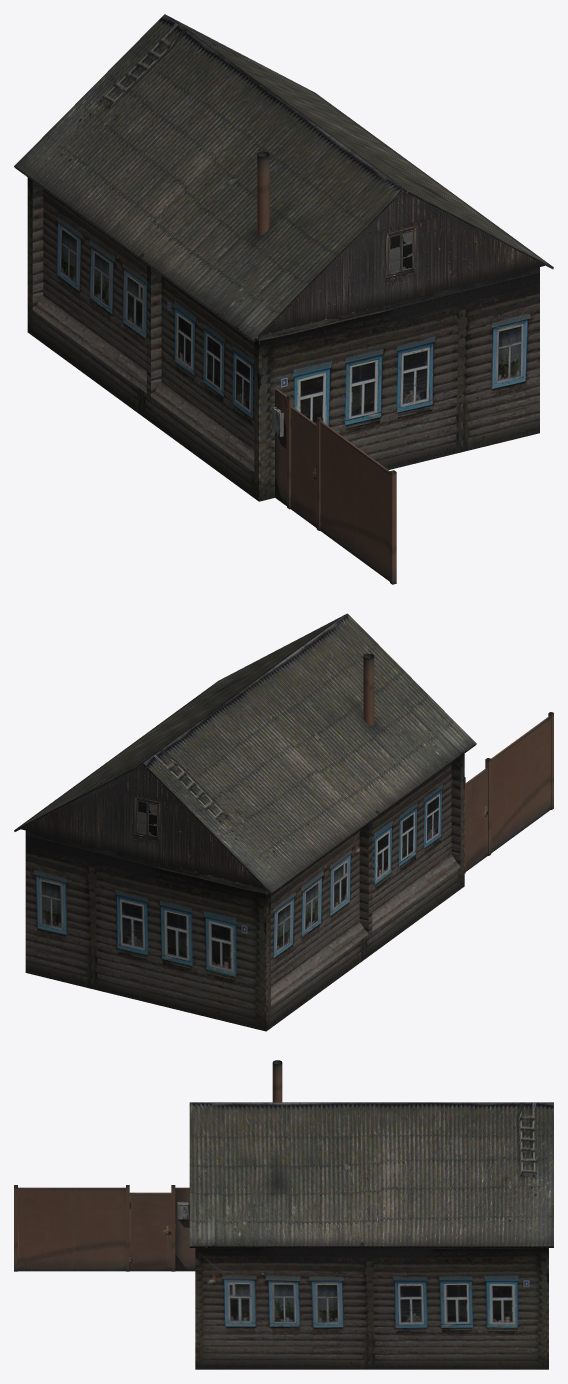
The model's file is denlog_dom_001.fbx.
3 renders of one model, top to bottom at view 1: azimuth 30°, elevation 25°; view 2: azimuth 150°, elevation 25°; view 3: azimuth 270°, elevation 25°, orthographic. The views are drawn at different scales.
Visible parts, largest first — view 1: Box001; view 2: Box001; view 3: Box001.
Part boxes in pixels (left/top/right/bottom): Box001: left=14, top=14, right=553, bottom=584; Box001: left=14, top=613, right=553, bottom=1031; Box001: left=14, top=1060, right=553, bottom=1369.
Size of the model in its own units: 5.64 by 5.26 by 11.47.
Materials: 1 (1 with a texture image).
